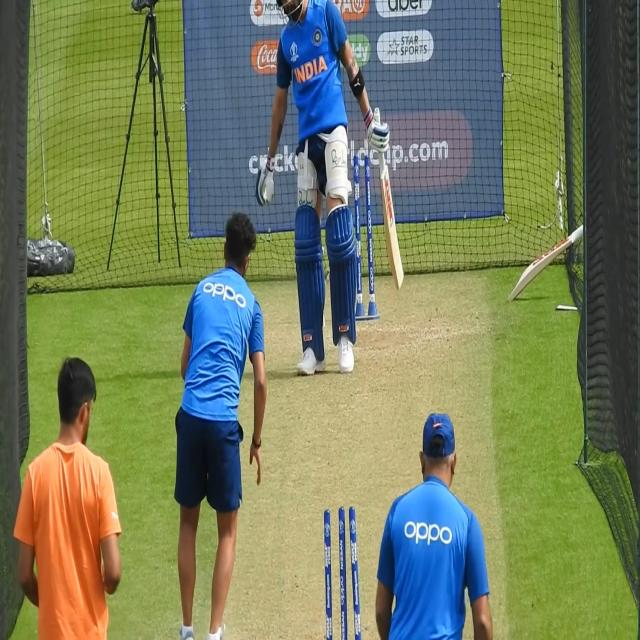stump: (322, 506, 363, 640)
